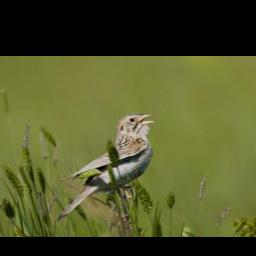Sparrow: (58, 112, 157, 220)
